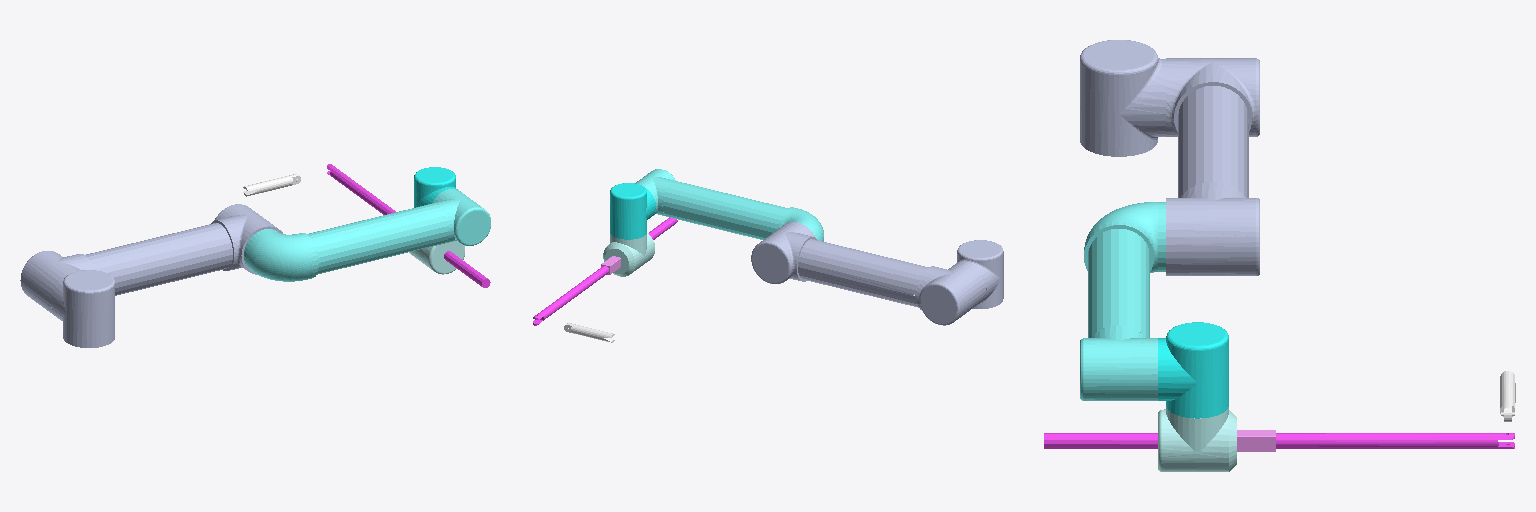
URDF robot description (dofnine5):
<?xml version="1.0" encoding="utf-8" ?>
<!-- This URDF was automatically created by SolidWorks to URDF Exporter! Originally created by [author] ([email redacted]) 
     Commit Version: 1.5.1-0-g916b5db  Build Version: 1.5.7152.31018
     For more information, please see http://wiki.ros.org/sw_urdf_exporter -->
<robot name="dofnine5">
    <link name="base_link">
        
<inertial>
            <origin xyz="9.1669E-19 0.0006188 0.01308" rpy="0 0 0" />
            <mass value="0.38246" />
            <inertia ixx="0.00043672" ixy="-5.14E-21" ixz="6.9161E-21" iyy="0.00045103" iyz="7.29E-07" izz="0.00083789" />
        </inertial>

        <visual>
            <origin xyz="0 0 0" rpy="0 0 0" />
            <geometry>
                <mesh filename="package://dofnine5/meshes/base_link.STL" />
            </geometry>
            <material name="">
                <color rgba="0.79216 0.81961 0.93333 1" />
            </material>
        </visual>
        <collision>
            <origin xyz="0 0 0" rpy="0 0 0" />
            <geometry>
                <mesh filename="package://dofnine5/meshes/base_link.STL" />
            </geometry>
        </collision>
    </link>
    <link name="Link1">
        
<inertial>
            <origin xyz="-4.2686E-10 0.0063042 0.08991" rpy="0 0 0" />
            <mass value="1.0794" />
            <inertia ixx="0.0020879" ixy="-3.8162E-10" ixz="1.4826E-10" iyy="0.0019142" iyz="-6.1066E-07" izz="0.0016041" />
        </inertial>

        <visual>
            <origin xyz="0 0 0" rpy="0 0 0" />
            <geometry>
                <mesh filename="package://dofnine5/meshes/Link1.STL" />
            </geometry>
            <material name="">
                <color rgba="0.79216 0.81961 0.93333 1" />
            </material>
        </visual>
        <collision>
            <origin xyz="0 0 0" rpy="0 0 0" />
            <geometry>
                <mesh filename="package://dofnine5/meshes/Link1.STL" />
            </geometry>
        </collision>
    </link>
    <joint name="joint1" type="revolute">
        <origin xyz="0 0 0" rpy="0 0 0" />
        <parent link="base_link" />
        <child link="Link1" />
        <axis xyz="0 0 1" />
        <limit lower="-3.14" upper="3.14" effort="100" velocity="3" />
    </joint>
    <link name="Link2">
        
<inertial>
            <origin xyz="-0.21001 -6.7298E-12 0.11992" rpy="0 0 0" />
            <mass value="2.5593" />
            <inertia ixx="0.0045543" ixy="9.5236E-10" ixz="5.851E-07" iyy="0.097115" iyz="7.8875E-13" izz="0.096147" />
        </inertial>

        <visual>
            <origin xyz="0 0 0" rpy="0 0 0" />
            <geometry>
                <mesh filename="package://dofnine5/meshes/Link2.STL" />
            </geometry>
            <material name="">
                <color rgba="0.79216 0.81961 0.93333 1" />
            </material>
        </visual>
        <collision>
            <origin xyz="0 0 0" rpy="0 0 0" />
            <geometry>
                <mesh filename="package://dofnine5/meshes/Link2.STL" />
            </geometry>
        </collision>
    </link>
    <joint name="joint2" type="revolute">
        <origin xyz="0 0 0.09" rpy="1.5708 0 3.1416" />
        <parent link="Link1" />
        <child link="Link2" />
        <axis xyz="0 0 1" />
        <limit lower="-3.14" upper="3.14" effort="100" velocity="3" />
    </joint>
    <link name="Link3">
        
<inertial>
            <origin xyz="-0.2583 9.2942E-08 0.002554" rpy="0 0 0" />
            <mass value="1.1711" />
            <inertia ixx="0.0016101" ixy="-1.5519E-08" ixz="-0.00077549" iyy="0.030627" iyz="2.7799E-08" izz="0.030394" />
        </inertial>

        <visual>
            <origin xyz="0 0 0" rpy="0 0 0" />
            <geometry>
                <mesh filename="package://dofnine5/meshes/Link3.STL" />
            </geometry>
            <material name="">
                <color rgba="0.563 1 1 1" />
            </material>
        </visual>
        <collision>
            <origin xyz="0 0 0" rpy="0 0 0" />
            <geometry>
                <mesh filename="package://dofnine5/meshes/Link3.STL" />
            </geometry>
        </collision>
    </link>
    <joint name="joint3" type="revolute">
        <origin xyz="-0.42 0 0" rpy="0 0 0" />
        <parent link="Link2" />
        <child link="Link3" />
        <axis xyz="0 0 1" />
        <limit lower="-3.14" upper="3.14" effort="100" velocity="3" />
    </joint>
    <link name="Link4">
        
<inertial>
            <origin xyz="1.2298E-09 -0.00011006 0.094386" rpy="0 0 0" />
            <mass value="0.58201" />
            <inertia ixx="0.0007618" ixy="-4.4791E-11" ixz="1.4963E-11" iyy="0.00056434" iyz="3.5959E-07" izz="0.00068944" />
        </inertial>

        <visual>
            <origin xyz="0 0 0" rpy="0 0 0" />
            <geometry>
                <mesh filename="package://dofnine5/meshes/Link4.STL" />
            </geometry>
            <material name="">
                <color rgba="0.234 1 1 1" />
            </material>
        </visual>
        <collision>
            <origin xyz="0 0 0" rpy="0 0 0" />
            <geometry>
                <mesh filename="package://dofnine5/meshes/Link4.STL" />
            </geometry>
        </collision>
    </link>
    <joint name="joint4" type="revolute">
        <origin xyz="-0.4 0 0" rpy="0 0 0" />
        <parent link="Link3" />
        <child link="Link4" />
        <axis xyz="0 0 -1" />
        <limit lower="-3.14" upper="3.14" effort="100" velocity="3" />
    </joint>
    <link name="Link5">
        
<inertial>
            <origin xyz="-1.1025E-09 -0.00087677 0.093939" rpy="0 0 0" />
            <mass value="0.53907" />
            <inertia ixx="0.00070005" ixy="-3.7536E-11" ixz="-2.8082E-11" iyy="0.00054563" iyz="2.8643E-06" izz="0.00062916" />
        </inertial>

        <visual>
            <origin xyz="0 0 0" rpy="0 0 0" />
            <geometry>
                <mesh filename="package://dofnine5/meshes/Link5.STL" />
            </geometry>
            <material name="">
                <color rgba="0.7856 1 1 1" />
            </material>
        </visual>
        <collision>
            <origin xyz="0 0 0" rpy="0 0 0" />
            <geometry>
                <mesh filename="package://dofnine5/meshes/Link5.STL" />
            </geometry>
        </collision>
    </link>
    <joint name="joint5" type="revolute">
        <origin xyz="0 0 0.1" rpy="1.5708 0 0" />
        <parent link="Link4" />
        <child link="Link5" />
        <axis xyz="0 0 1" />
        <limit lower="-3.14" upper="3.14" effort="100" velocity="3" />
    </joint>
    <link name="Link6">
        
<inertial>
            <origin xyz="-2.2204E-16 4.5103E-17 0.075" rpy="0 0 0" />
            <mass value="0.0084491" />
            <inertia ixx="2.3386E-06" ixy="-9.6935E-24" ixz="1.3188E-21" iyy="2.3386E-06" iyz="7.3619E-22" izz="1.1568E-06" />
        </inertial>

        <visual>
            <origin xyz="0 0 0" rpy="0 0 0" />
            <geometry>
                <mesh filename="package://dofnine5/meshes/Link6.STL" />
            </geometry>
            <material name="">
                <color rgba="1 0.6574 1 1" />
            </material>
        </visual>
        <collision>
            <origin xyz="0 0 0" rpy="0 0 0" />
            <geometry>
                <mesh filename="package://dofnine5/meshes/Link6.STL" />
            </geometry>
        </collision>
    </link>
    <joint name="joint6" type="revolute">
        <origin xyz="0 0 0.1" rpy="-1.5708 0 0" />
        <parent link="Link5" />
        <child link="Link6" />
        <axis xyz="0 0 1" />
        <limit lower="-3.14" upper="3.14" effort="100" velocity="3" />
    </joint>
    <link name="Link7">
        
<inertial>
            <origin xyz="3.1885E-09 -2.9817E-08 -0.25766" rpy="0 0 0" />
            <mass value="0.18362" />
            <inertia ixx="0.0052429" ixy="-2.891E-13" ixz="-1.4282E-10" iyy="0.0052429" iyz="1.3378E-09" izz="9.233E-06" />
        </inertial>

        <visual>
            <origin xyz="0 0 0" rpy="0 0 0" />
            <geometry>
                <mesh filename="package://dofnine5/meshes/Link7.STL" />
            </geometry>
            <material name="">
                <color rgba="1 0.364 1 1" />
            </material>
        </visual>
        <collision>
            <origin xyz="0 0 0" rpy="0 0 0" />
            <geometry>
                <mesh filename="package://dofnine5/meshes/Link7.STL" />
            </geometry>
        </collision>
    </link>
    <joint name="joint7" type="prismatic">
        <origin xyz="0 0 0.1" rpy="0 0 0" />
        <parent link="Link6" />
        <child link="Link7" />
        <axis xyz="0 0 1" />
        <limit lower="0.01" upper="0.5" effort="100" velocity="3" />
    </joint>
    <link name="Link8">
        
<inertial>
            <origin xyz="0.036752 3.9744E-08 4.6718E-09" rpy="0 0 0" />
            <mass value="0.023875" />
            <inertia ixx="1.1971E-06" ixy="-3.8291E-11" ixz="-4.4295E-12" iyy="1.4442E-05" iyz="-8.1423E-14" izz="1.4588E-05" />
        </inertial>

        <visual>
            <origin xyz="0 0 0" rpy="0 0 0" />
            <geometry>
                <mesh filename="package://dofnine5/meshes/Link8.STL" />
            </geometry>
            <material name="">
                <color rgba="1 1 0.6574 1" />
            </material>
        </visual>
        <collision>
            <origin xyz="0 0 0" rpy="0 0 0" />
            <geometry>
                <mesh filename="package://dofnine5/meshes/Link8.STL" />
            </geometry>
        </collision>
    </link>
    <joint name="joint8" type="revolute">
        <origin xyz="0 0 0.04" rpy="1.5708 0 0" />
        <parent link="Link7" />
        <child link="Link8" />
        <axis xyz="0 0 -1" />
        <limit lower="-3.14" upper="3.14" effort="100" velocity="3" />
    </joint>
    <link name="Link9">
        
<inertial>
            <origin xyz="0.050963 2.949E-17 -1.6653E-16" rpy="0 0 0" />
            <mass value="0.033078" />
            <inertia ixx="1.6325E-06" ixy="-5.165E-21" ixz="-1.4715E-19" iyy="3.3309E-05" iyz="-9.0143E-22" izz="3.3424E-05" />
        </inertial>

        <visual>
            <origin xyz="0 0 0" rpy="0 0 0" />
            <geometry>
                <mesh filename="package://dofnine5/meshes/Link9.STL" />
            </geometry>
            <material name="">
                <color rgba="1 1 1 1" />
            </material>
        </visual>
        <collision>
            <origin xyz="0 0 0" rpy="0 0 0" />
            <geometry>
                <mesh filename="package://dofnine5/meshes/Link9.STL" />
            </geometry>
        </collision>
    </link>
    <joint name="joint9" type="revolute">
        <origin xyz="0.08 0 0" rpy="-1.5708 0 0" />
        <parent link="Link8" />
        <child link="Link9" />
        <axis xyz="0 0 1" />
        <limit lower="-3.14" upper="3.14" effort="100" velocity="3" />
    </joint>
    <link name="gripper">
        
<inertial>
            <origin xyz="-0.059037 2.949E-17 -1.6653E-16" rpy="0 0 0" />
            <mass value="0.033078" />
            <inertia ixx="1.6325E-06" ixy="-5.165E-21" ixz="-1.4715E-19" iyy="3.3309E-05" iyz="-8.2052E-22" izz="3.3424E-05" />
        </inertial>

        <visual>
            <origin xyz="0 0 0" rpy="0 0 0" />
            <geometry>
                <mesh filename="package://dofnine5/meshes/gripper.STL" />
            </geometry>
            <material name="">
                <color rgba="1 1 1 1" />
            </material>
        </visual>
        <collision>
            <origin xyz="0 0 0" rpy="0 0 0" />
            <geometry>
                <mesh filename="package://dofnine5/meshes/gripper.STL" />
            </geometry>
        </collision>
    </link>
    <joint name="gripper" type="fixed">
        <origin xyz="0.11 0 0" rpy="0 0 0" />
        <parent link="Link9" />
        <child link="gripper" />
        <axis xyz="0 0 0" />
    </joint>
    
<transmission name="trans_joint1">
        <type>transmission_interface/SimpleTransmission</type>
        <joint name="joint1">
            <hardwareInterface>hardware_interface/EffortJointInterface</hardwareInterface>
        </joint>
        <actuator name="joint1_motor">
            <hardwareInterface>hardware_interface/EffortJointInterface</hardwareInterface>
            <mechanicalReduction>1</mechanicalReduction>
        </actuator>
    </transmission>
    <transmission name="trans_joint2">
        <type>transmission_interface/SimpleTransmission</type>
        <joint name="joint2">
            <hardwareInterface>hardware_interface/EffortJointInterface</hardwareInterface>
        </joint>
        <actuator name="joint2_motor">
            <hardwareInterface>hardware_interface/EffortJointInterface</hardwareInterface>
            <mechanicalReduction>1</mechanicalReduction>
        </actuator>
    </transmission>
    <transmission name="trans_joint3">
        <type>transmission_interface/SimpleTransmission</type>
        <joint name="joint3">
            <hardwareInterface>hardware_interface/EffortJointInterface</hardwareInterface>
        </joint>
        <actuator name="joint3_motor">
            <hardwareInterface>hardware_interface/EffortJointInterface</hardwareInterface>
            <mechanicalReduction>1</mechanicalReduction>
        </actuator>
    </transmission>
    <transmission name="trans_joint4">
        <type>transmission_interface/SimpleTransmission</type>
        <joint name="joint4">
            <hardwareInterface>hardware_interface/EffortJointInterface</hardwareInterface>
        </joint>
        <actuator name="joint4_motor">
            <hardwareInterface>hardware_interface/EffortJointInterface</hardwareInterface>
            <mechanicalReduction>1</mechanicalReduction>
        </actuator>
    </transmission>
    <transmission name="trans_joint5">
        <type>transmission_interface/SimpleTransmission</type>
        <joint name="joint5">
            <hardwareInterface>hardware_interface/EffortJointInterface</hardwareInterface>
        </joint>
        <actuator name="joint5_motor">
            <hardwareInterface>hardware_interface/EffortJointInterface</hardwareInterface>
            <mechanicalReduction>1</mechanicalReduction>
        </actuator>
    </transmission>
    <transmission name="trans_joint6">
        <type>transmission_interface/SimpleTransmission</type>
        <joint name="joint6">
            <hardwareInterface>hardware_interface/EffortJointInterface</hardwareInterface>
        </joint>
        <actuator name="joint6_motor">
            <hardwareInterface>hardware_interface/EffortJointInterface</hardwareInterface>
            <mechanicalReduction>1</mechanicalReduction>
        </actuator>
    </transmission>
    <transmission name="trans_joint7">
        <type>transmission_interface/SimpleTransmission</type>
        <joint name="joint7">
            <hardwareInterface>hardware_interface/EffortJointInterface</hardwareInterface>
        </joint>
        <actuator name="joint7_motor">
            <hardwareInterface>hardware_interface/EffortJointInterface</hardwareInterface>
            <mechanicalReduction>1</mechanicalReduction>
        </actuator>
    </transmission>
    <transmission name="trans_joint8">
        <type>transmission_interface/SimpleTransmission</type>
        <joint name="joint8">
            <hardwareInterface>hardware_interface/EffortJointInterface</hardwareInterface>
        </joint>
        <actuator name="joint8_motor">
            <hardwareInterface>hardware_interface/EffortJointInterface</hardwareInterface>
            <mechanicalReduction>1</mechanicalReduction>
        </actuator>
    </transmission>
    <transmission name="trans_joint9">
        <type>transmission_interface/SimpleTransmission</type>
        <joint name="joint9">
            <hardwareInterface>hardware_interface/EffortJointInterface</hardwareInterface>
        </joint>
        <actuator name="joint9_motor">
            <hardwareInterface>hardware_interface/EffortJointInterface</hardwareInterface>
            <mechanicalReduction>1</mechanicalReduction>
        </actuator>
    </transmission>
    <gazebo>
        <plugin name="gazebo_ros_control" filename="libgazebo_ros_control.so">
            <robotNamespace>/</robotNamespace>
        </plugin>
    </gazebo>
</robot>

--- Facts derived from the render (not from the file) ---
Views: 3 orthographic renders of the robot side by side, from view 1: azimuth 30°, elevation 25°; view 2: azimuth 150°, elevation 25°; view 3: azimuth 270°, elevation 25°.
Robot: dofnine5 — 11 links, 10 joints (8 revolute, 1 prismatic, 1 fixed); root link base_link; default pose: all joints at 0 but 1 set to mid-range because 0 is outside their limits (joint7 = 0.255).
Visible links, largest first — view 1: Link3, Link2, Link1, Link7, Link4, Link5, gripper; view 2: Link2, Link3, Link4, Link1, Link5, Link7; view 3: Link2, Link3, Link1, Link4, Link7, Link5, Link6, gripper.
Boxes of the visible links, <box> form: Link3: <box>244,189,490,281</box>; Link2: <box>20,204,282,315</box>; Link1: <box>51,270,114,347</box>; Link7: <box>327,164,490,287</box>; Link4: <box>414,167,457,207</box>; Link5: <box>409,241,464,274</box>; gripper: <box>243,174,300,196</box>; Link2: <box>751,222,986,325</box>; Link3: <box>635,169,823,241</box>; Link4: <box>610,183,655,239</box>; Link1: <box>956,240,1003,308</box>; Link5: <box>603,233,654,276</box>; Link7: <box>533,217,677,325</box>; Link2: <box>1166,58,1259,275</box>; Link3: <box>1080,202,1165,400</box>; Link1: <box>1080,40,1165,156</box>; Link4: <box>1158,322,1228,418</box>; Link7: <box>1044,433,1514,448</box>; Link5: <box>1158,407,1236,471</box>; Link6: <box>1237,430,1275,451</box>; gripper: <box>1500,371,1515,421</box>.
Size in the robot's own frame: 0.91 by 0.6 by 0.2 metres.
Meshes: 11 distinct files referenced, 8 mesh visuals loaded (8 binary STL); not drawn: 3 (reference not matched to a file when rendering).
